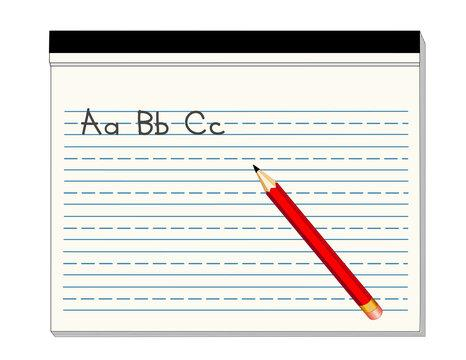text: (79, 107, 121, 137), (184, 108, 227, 136), (135, 108, 170, 136)
